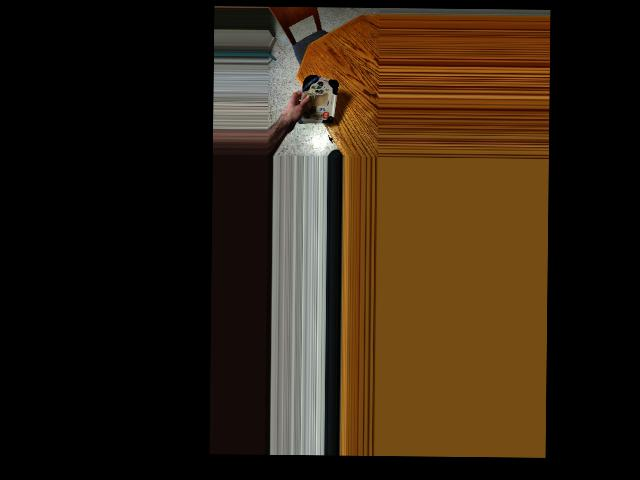cheese: (298, 73, 334, 130)
